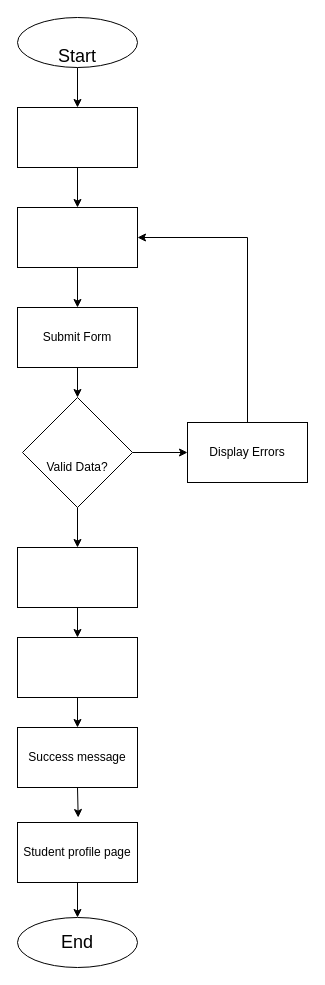
This 325x985 diagram has some shape labels left out. Each missing label, with the centre of its shape:
Fill out form: the point at 77,237
New registration: the point at 77,137
Save to database: the point at 77,577
Upload profile picture: the point at 77,667
